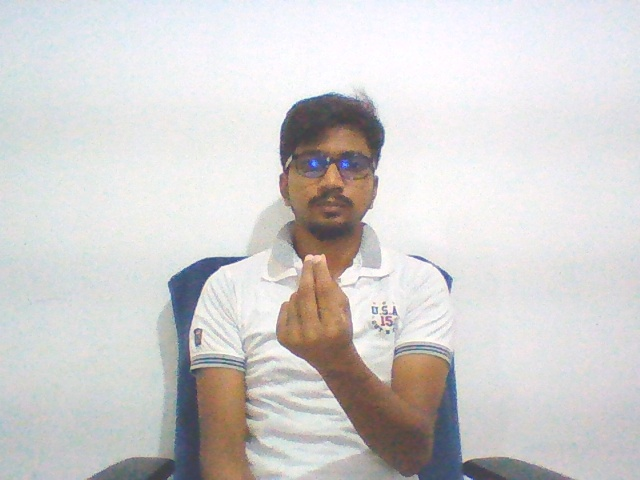dog: (272, 249, 362, 366)
